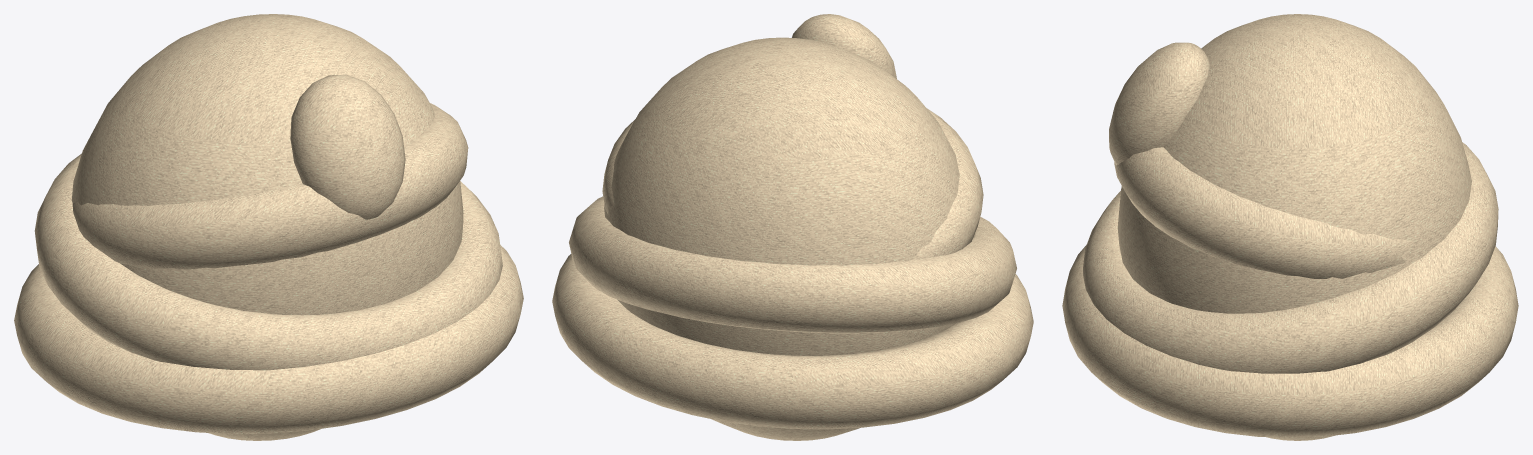
The model's file is turban3.fbx.
3 renders of one model, left to right at view 1: azimuth 30°, elevation 25°; view 2: azimuth 150°, elevation 25°; view 3: azimuth 270°, elevation 25°, orthographic. The views are drawn at different scales.
Visible parts, largest first — view 1: turban3; view 2: turban3; view 3: turban3.
Boxes of the visible parts, left/top/right/bottom form: turban3: left=14, top=14, right=523, bottom=440; turban3: left=552, top=14, right=1033, bottom=440; turban3: left=1062, top=14, right=1518, bottom=440.
Size of the model in its own units: 0.72 by 0.6 by 0.6336.
1 material, 1 textured.
